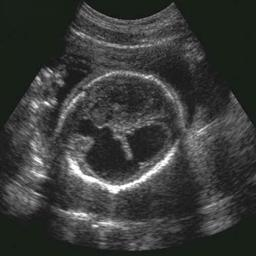abnormal: (62, 69, 183, 193)
